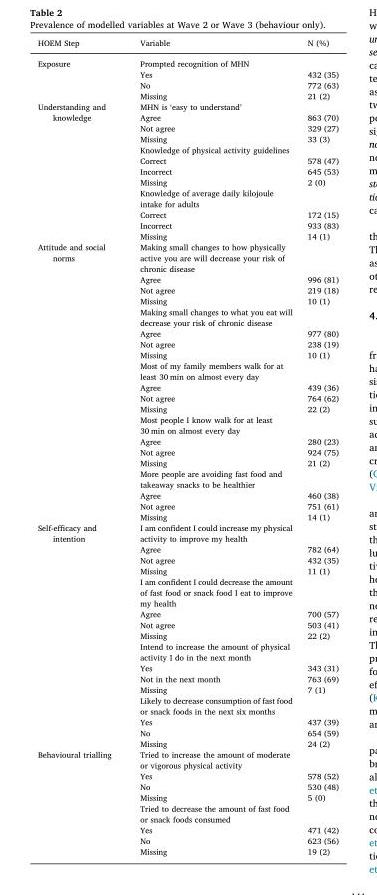table: (36, 37, 338, 855)
table column: (124, 37, 299, 855), (36, 37, 124, 855), (299, 37, 338, 855)
table column header: (36, 37, 338, 52)
table row: (36, 575, 338, 608), (36, 241, 338, 273), (36, 305, 338, 327), (36, 359, 338, 381), (36, 413, 338, 435), (36, 467, 338, 489), (36, 521, 338, 543), (36, 640, 338, 662), (36, 187, 338, 208), (36, 694, 338, 715), (36, 748, 338, 769), (36, 802, 338, 823), (36, 52, 338, 68), (36, 37, 338, 52), (36, 68, 338, 79), (36, 89, 338, 100), (36, 100, 338, 111), (36, 111, 338, 122), (36, 122, 338, 133), (36, 143, 338, 154), (36, 154, 338, 165), (36, 165, 338, 176), (36, 176, 338, 187), (36, 208, 338, 219), (36, 219, 338, 230), (36, 230, 338, 241), (36, 273, 338, 284), (36, 294, 338, 305), (36, 327, 338, 338), (36, 348, 338, 359), (36, 381, 338, 392), (36, 402, 338, 413), (36, 435, 338, 446), (36, 456, 338, 467), (36, 489, 338, 500), (36, 510, 338, 521), (36, 543, 338, 554), (36, 564, 338, 575), (36, 618, 338, 629), (36, 629, 338, 640), (36, 672, 338, 683), (36, 683, 338, 694), (36, 715, 338, 726), (36, 726, 338, 737), (36, 737, 338, 748), (36, 769, 338, 780), (36, 780, 338, 791), (36, 791, 338, 802), (36, 823, 338, 834), (36, 834, 338, 845), (36, 79, 338, 89), (36, 133, 338, 143), (36, 284, 338, 294), (36, 338, 338, 348), (36, 392, 338, 402), (36, 446, 338, 456), (36, 500, 338, 510), (36, 554, 338, 564), (36, 608, 338, 618), (36, 662, 338, 672), (36, 845, 338, 855)
table spanning cell: (36, 241, 124, 521), (36, 521, 124, 748), (36, 100, 124, 241), (36, 748, 124, 855), (36, 52, 124, 100)
